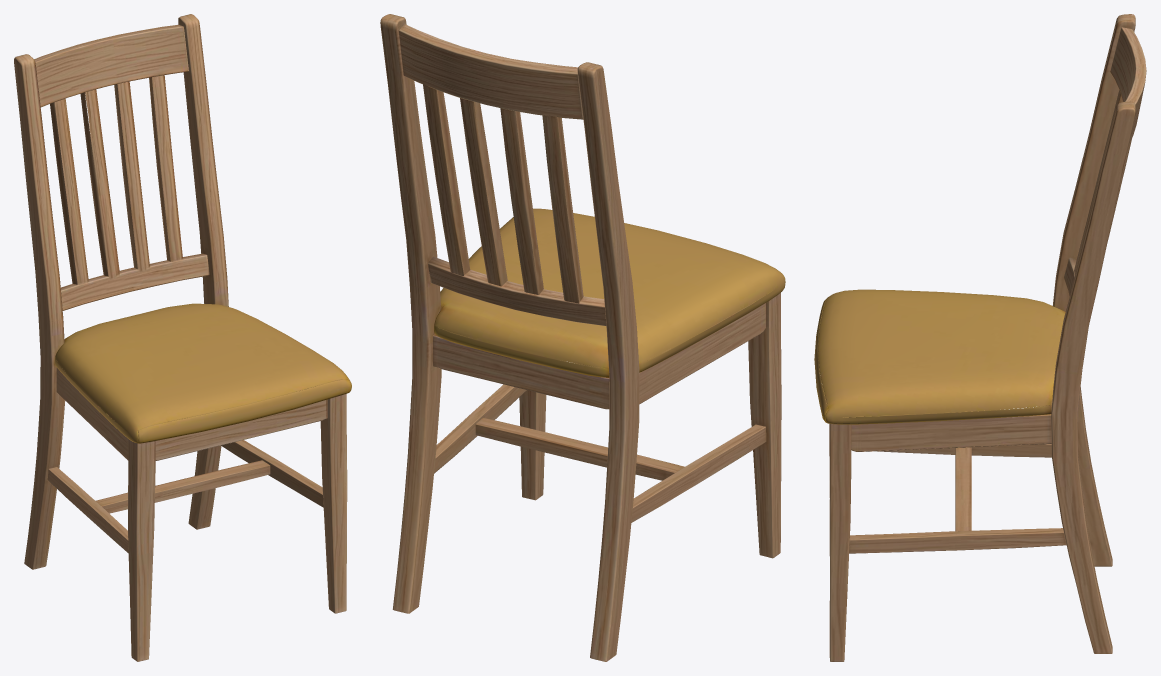
The model's file is chair.glb.
3 views of the same model, side by side, from view 1: azimuth 30°, elevation 25°; view 2: azimuth 150°, elevation 25°; view 3: azimuth 270°, elevation 25° (orthographic). The views are drawn at different scales.
Parts seen in each view (by area): view 1: aab4be69_d862_476c_8813_543c8d257416; view 2: aab4be69_d862_476c_8813_543c8d257416; view 3: aab4be69_d862_476c_8813_543c8d257416.
Part boxes in pixels (x1,y1,x2,y2): aab4be69_d862_476c_8813_543c8d257416: (14, 14, 351, 661); aab4be69_d862_476c_8813_543c8d257416: (380, 14, 785, 661); aab4be69_d862_476c_8813_543c8d257416: (814, 14, 1146, 661).
Bounding box in the file's own units: 0.4585 × 0.9995 × 0.5513.
1 material, 1 textured.
